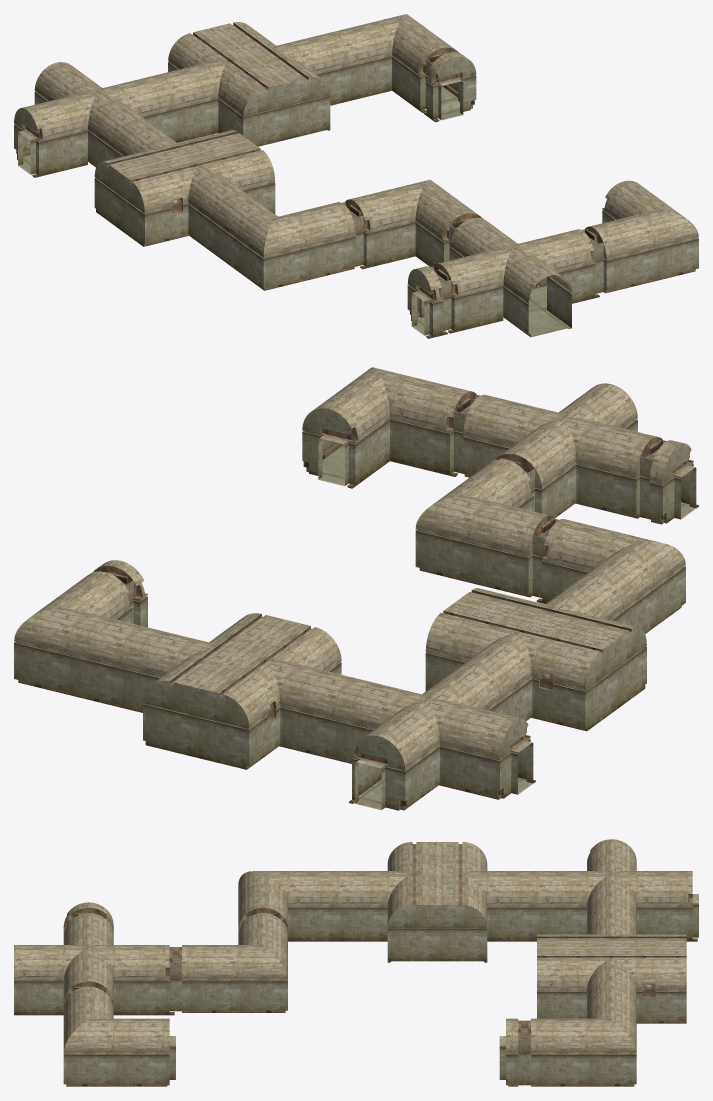
File: poi_all_bunker_allum_mine_r12_hall12_mesh_r12.fbx
3 renders of one model, top to bottom at view 1: azimuth 30°, elevation 25°; view 2: azimuth 150°, elevation 25°; view 3: azimuth 270°, elevation 25°, orthographic. The views are drawn at different scales.
Parts seen in each view (by area): view 1: mesh_node; view 2: mesh_node; view 3: mesh_node.
Boxes of the visible parts, left/top/right/bottom form: mesh_node: left=14, top=14, right=698, bottom=338; mesh_node: left=14, top=367, right=698, bottom=810; mesh_node: left=14, top=839, right=698, bottom=1086.
Bounding box in the file's own units: 37 × 5.1 × 55.
